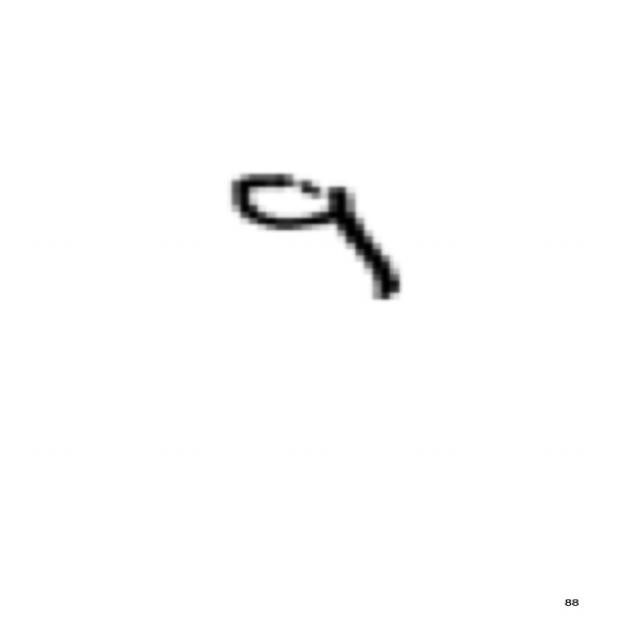9 -nine-: (212, 154, 420, 314)
